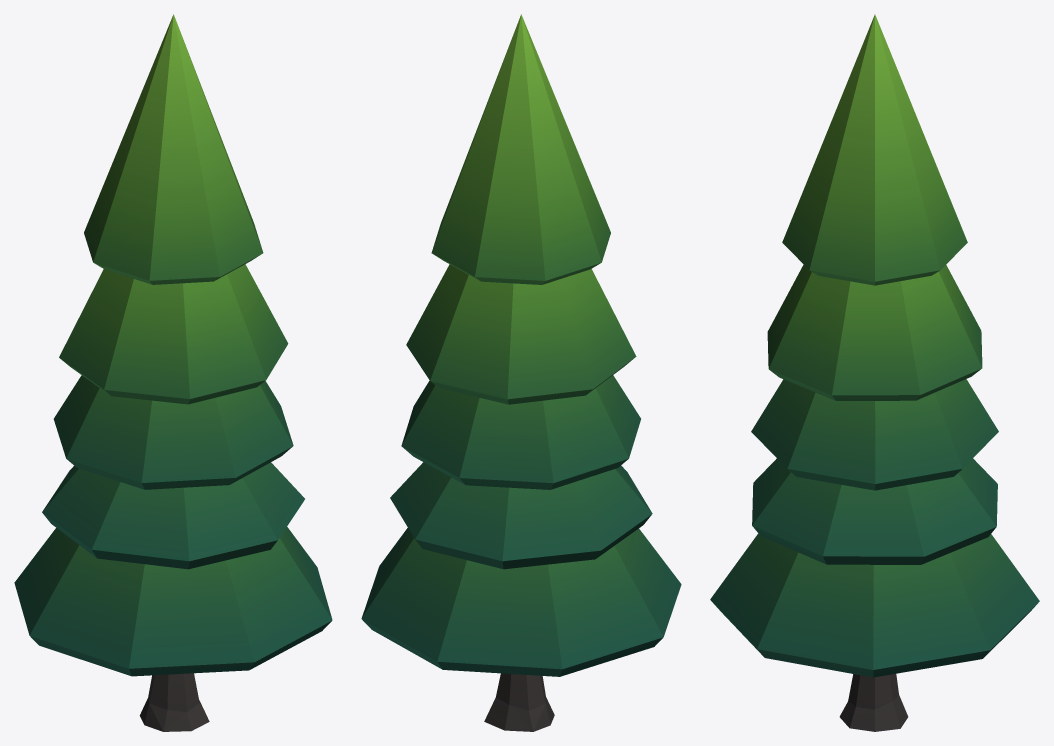
File: PineTree_A.fbx
3 views of the same model, side by side, from view 1: azimuth 30°, elevation 25°; view 2: azimuth 150°, elevation 25°; view 3: azimuth 270°, elevation 25° (orthographic).
Visible parts, largest first — view 1: PineTree_A; view 2: PineTree_A; view 3: PineTree_A.
Part boxes in pixels (<box>): PineTree_A: <box>14,14,332,731</box>; PineTree_A: <box>361,14,681,731</box>; PineTree_A: <box>710,14,1039,731</box>.
Size of the model in its own units: 291 by 684 by 291.
